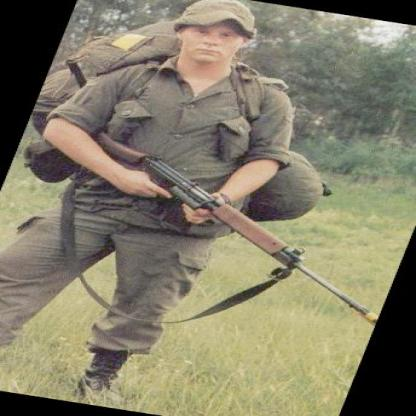rifle: (18, 122, 416, 330)
